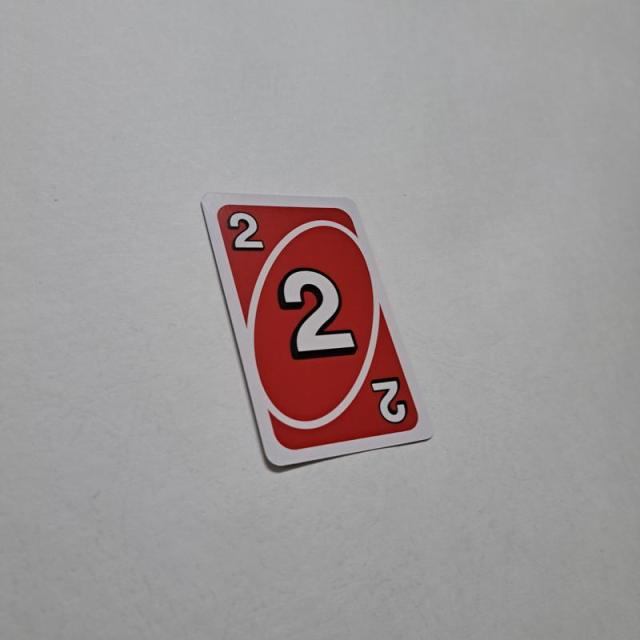Number_2: (222, 204, 270, 254)
Red_Card: (215, 199, 424, 453)
